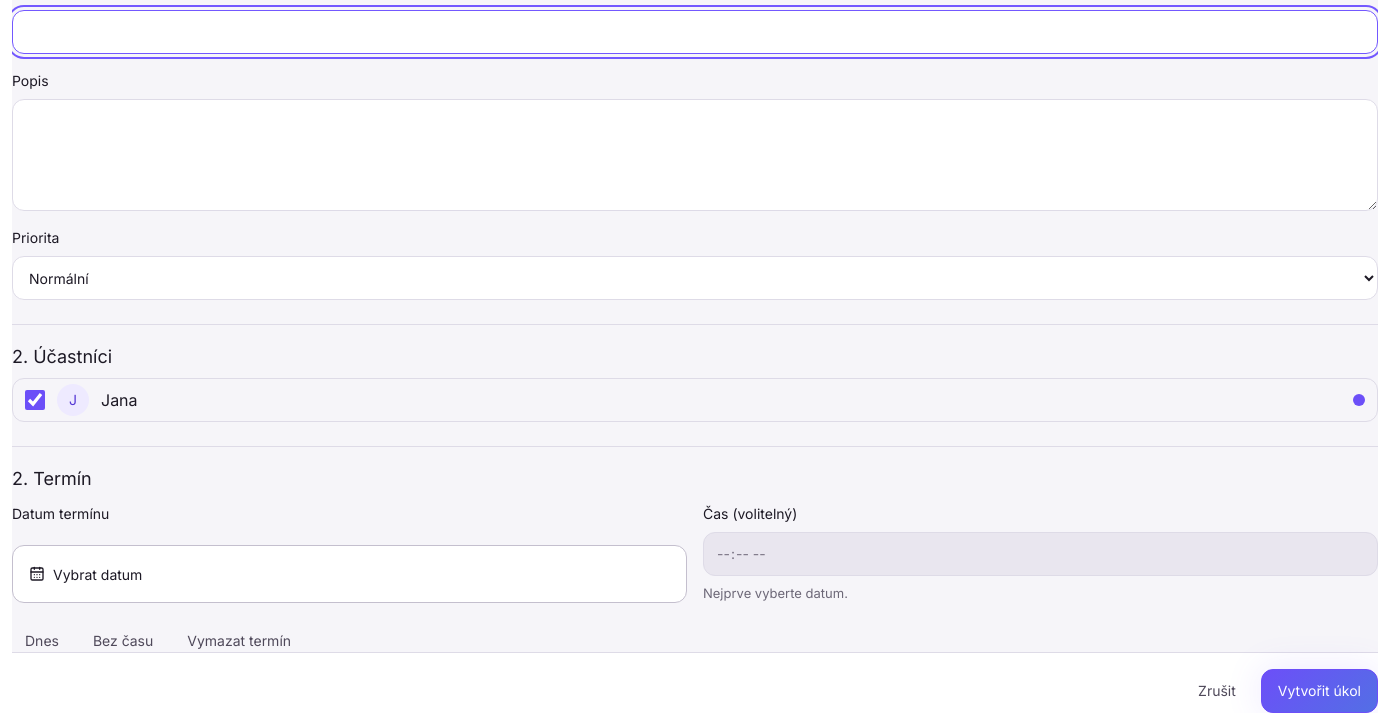
Scenario: agenda frontend › uses one shared form schema and requires a weekly day
Type "Vynést koš" into the field labelled "Název".
click(695, 32); type("Vynést koš")  # box top-left (12, 10), bottom-right (1378, 54)
(page scrolled)
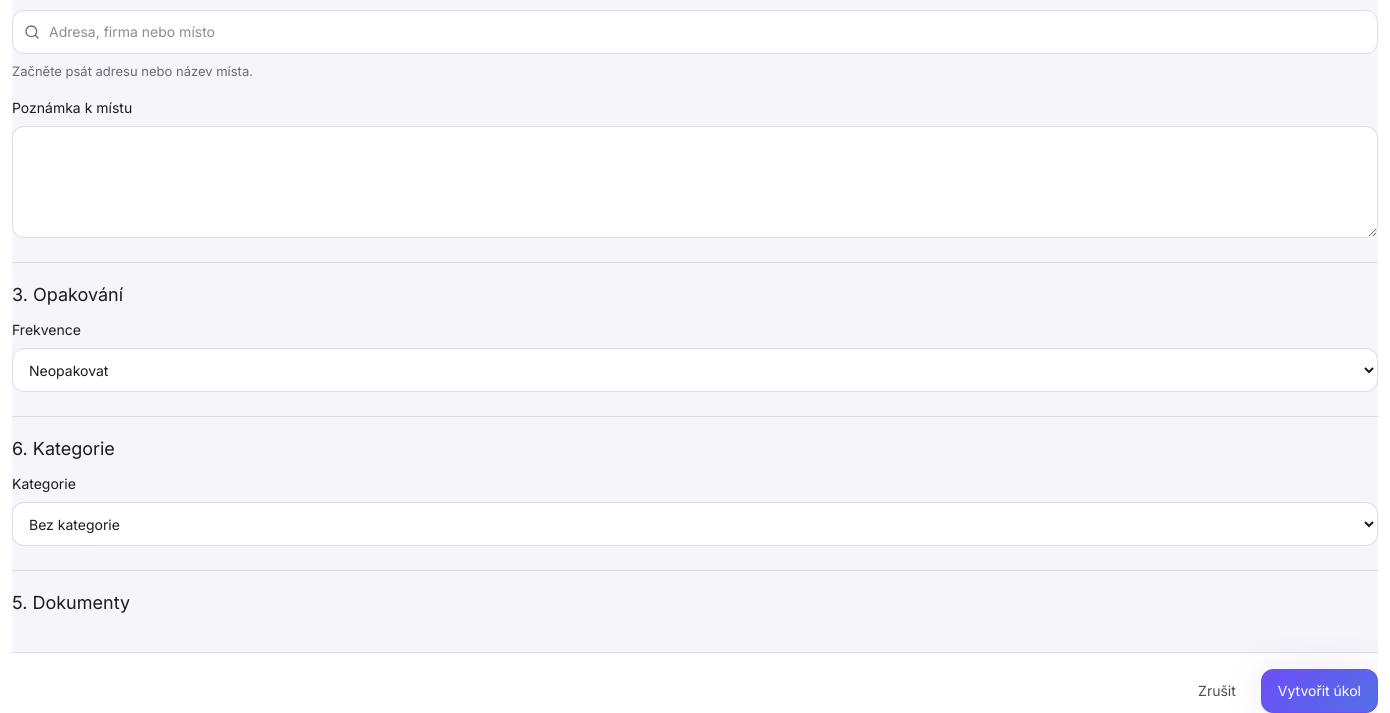
Select "Týdně" in the dropdown labelled "Frekvence" at x=695, y=370, box top-left (12, 348), bottom-right (1378, 392)
(page scrolled)
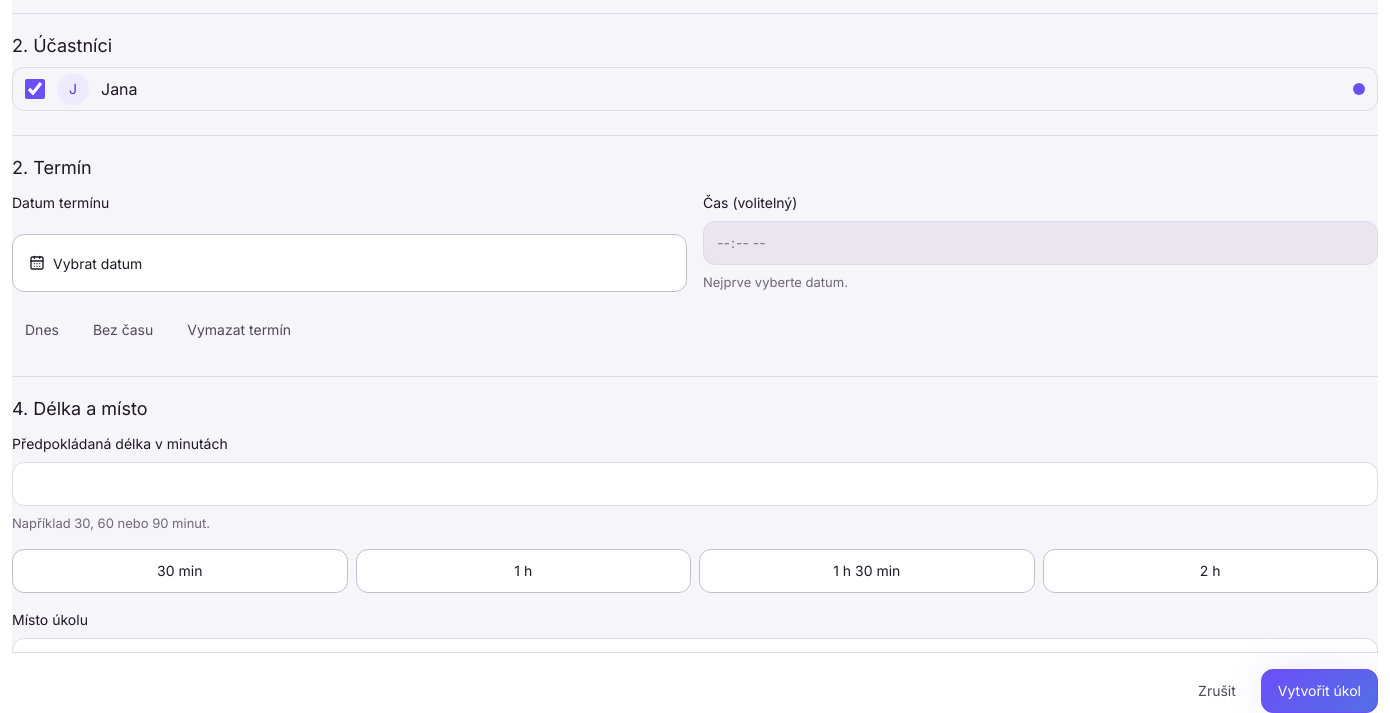
Click the button "Dnes".
click(42, 330)  # box top-left (12, 308), bottom-right (72, 352)
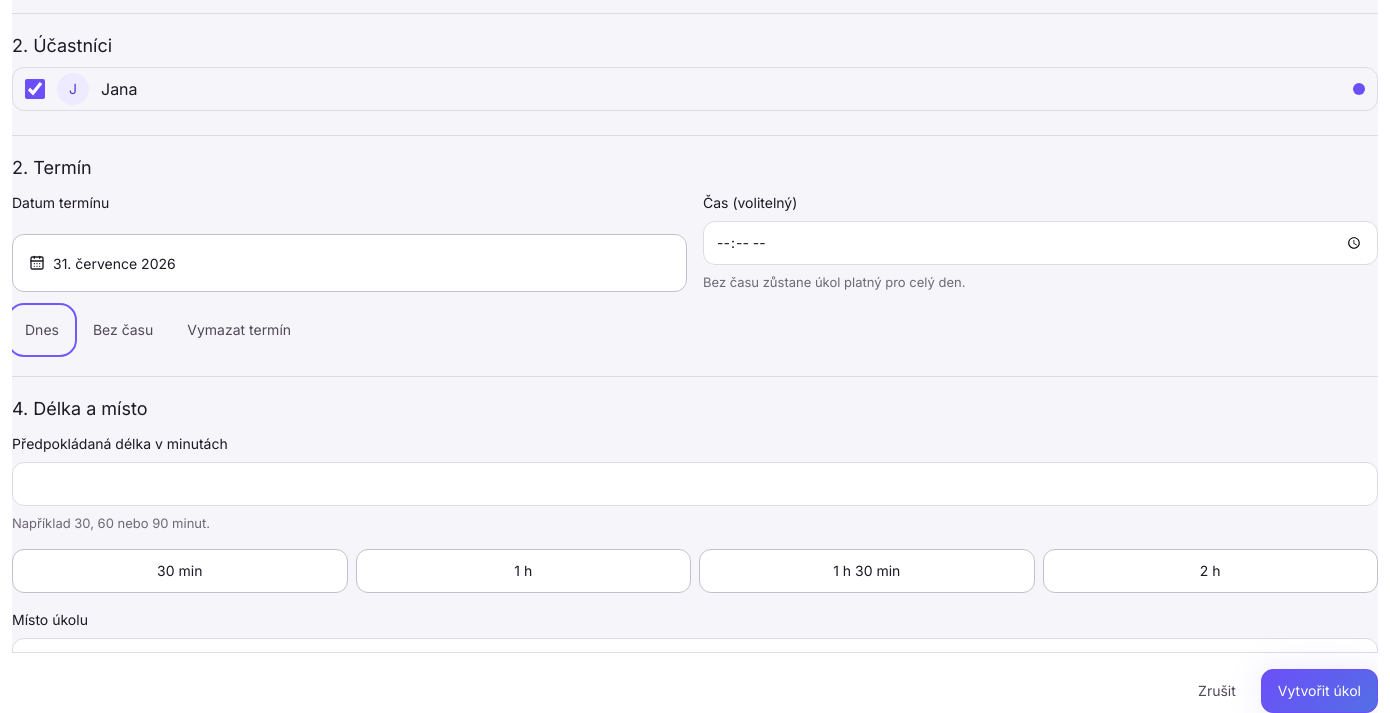
Click the button "Vytvořit úkol".
click(1319, 691)  # box top-left (1261, 669), bottom-right (1378, 712)
(page scrolled)
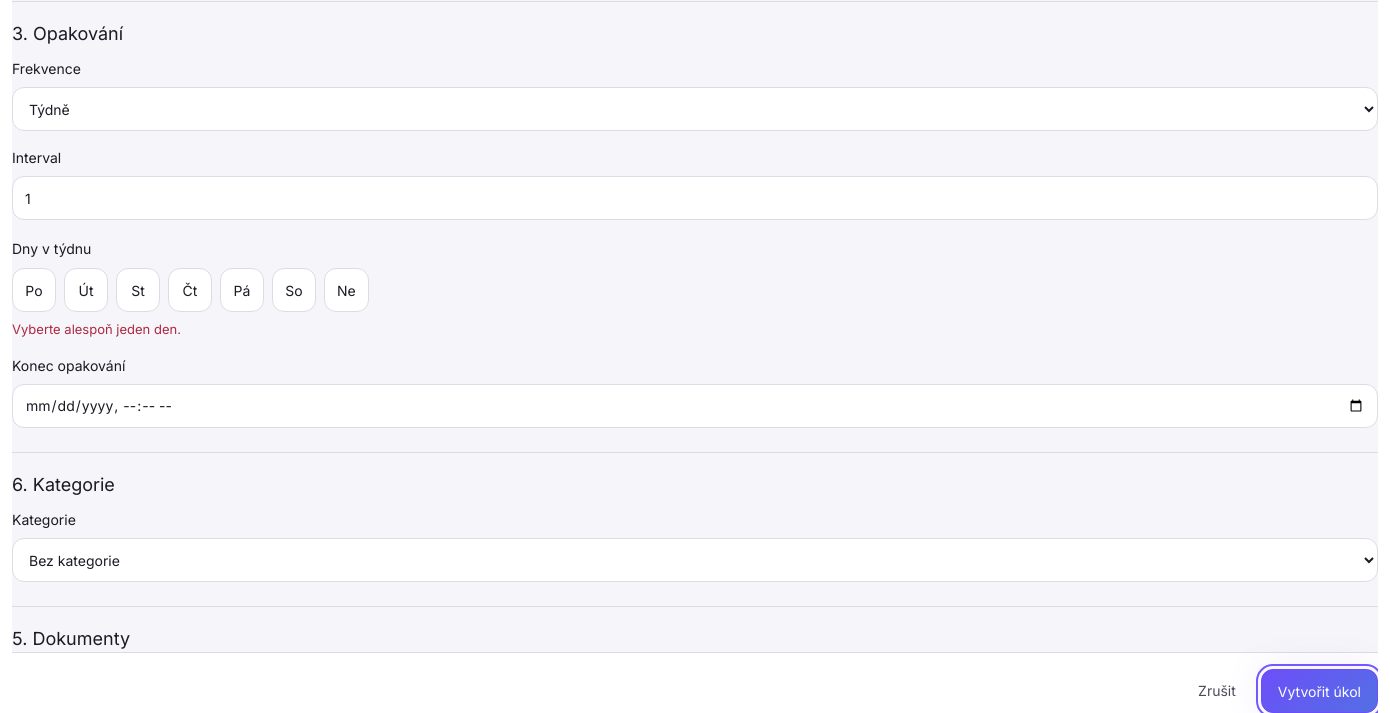
Expected: the text "Vyberte alespoň jeden den." is shown, top-left (12, 321), bottom-right (181, 337)
